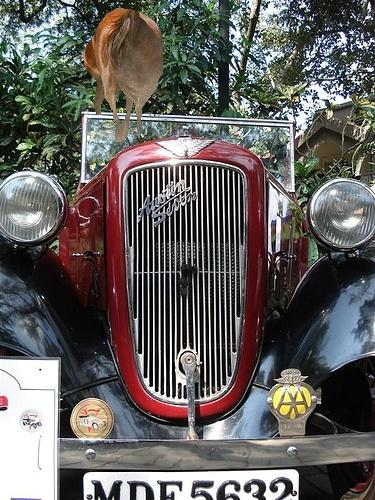tampered: (84, 9, 163, 142)
